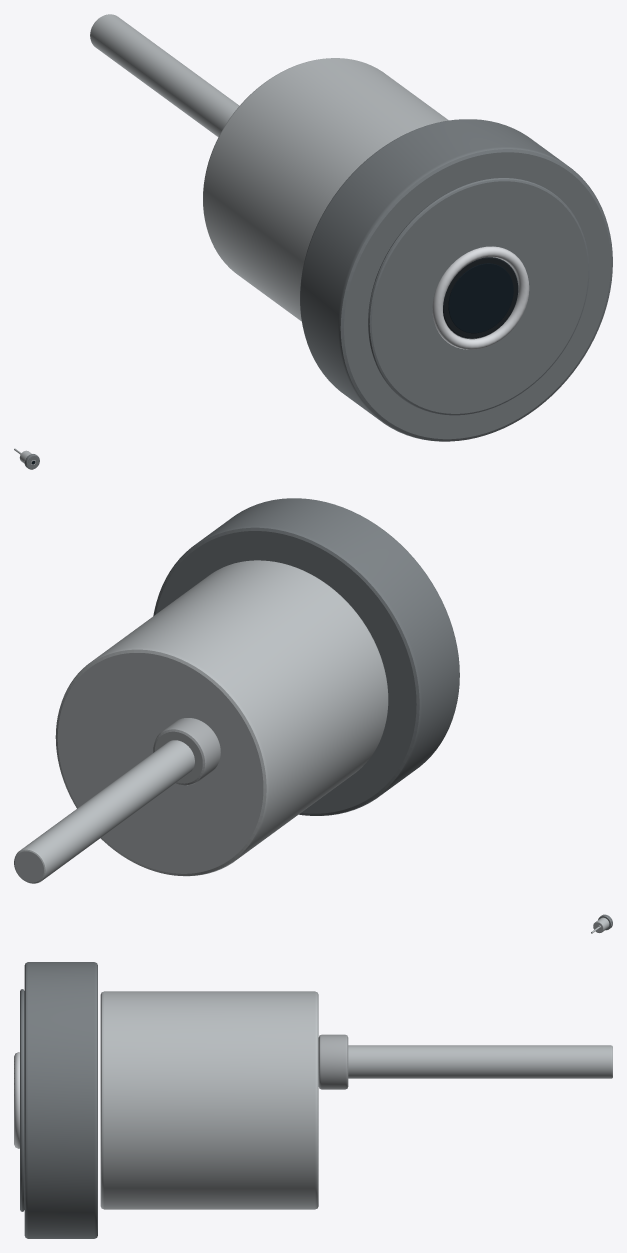
The picture shows the model from 3 angles, top to bottom: view 1: azimuth 30°, elevation 25°; view 2: azimuth 150°, elevation 25°; view 3: azimuth 270°, elevation 25°; orthographic projection. The views are drawn at different scales.
Parts seen in each view (by area): view 1: ls-dl02-808_x20; view 2: ls-dl02-808_x20; view 3: ls-dl02-808_x20.
Part boxes in pixels (left/top/right/bottom): ls-dl02-808_x20: left=90, top=14, right=612, bottom=441; ls-dl02-808_x20: left=14, top=498, right=459, bottom=883; ls-dl02-808_x20: left=14, top=962, right=612, bottom=1238.
Bounding box in the file's own units: 0.4187 × 0.226 × 0.4886.
